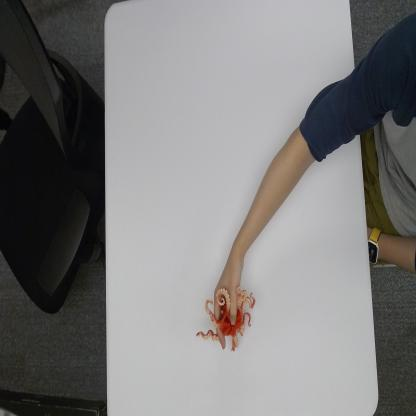Arm: (236, 57, 361, 252)
Hand: (194, 282, 256, 354), (212, 248, 245, 327)
